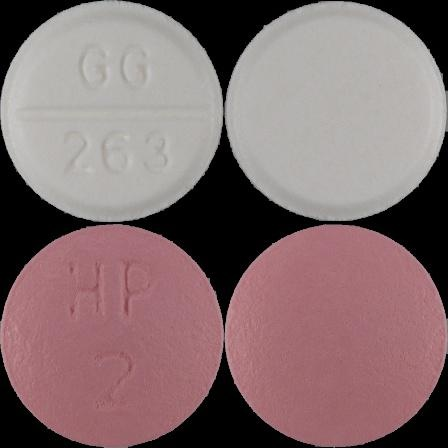62584-467: (0, 0, 224, 224)
